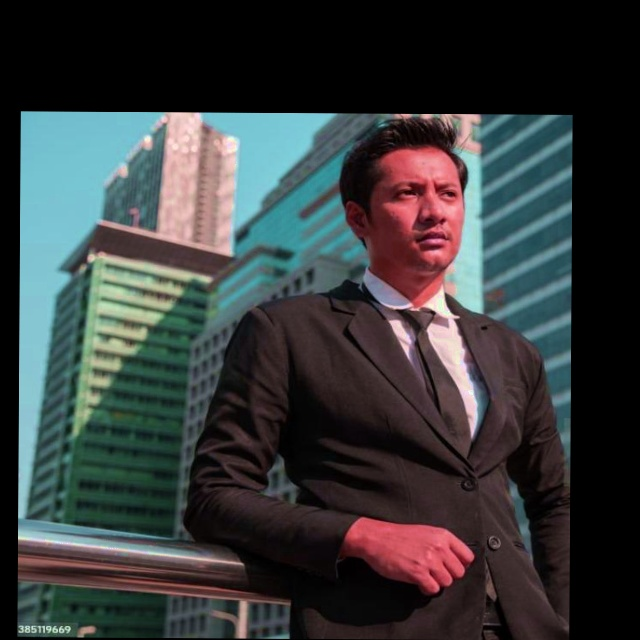Sin_Casco_Mascarrilla: (339, 115, 470, 275)
Sin_Chaleco: (242, 283, 558, 640)
